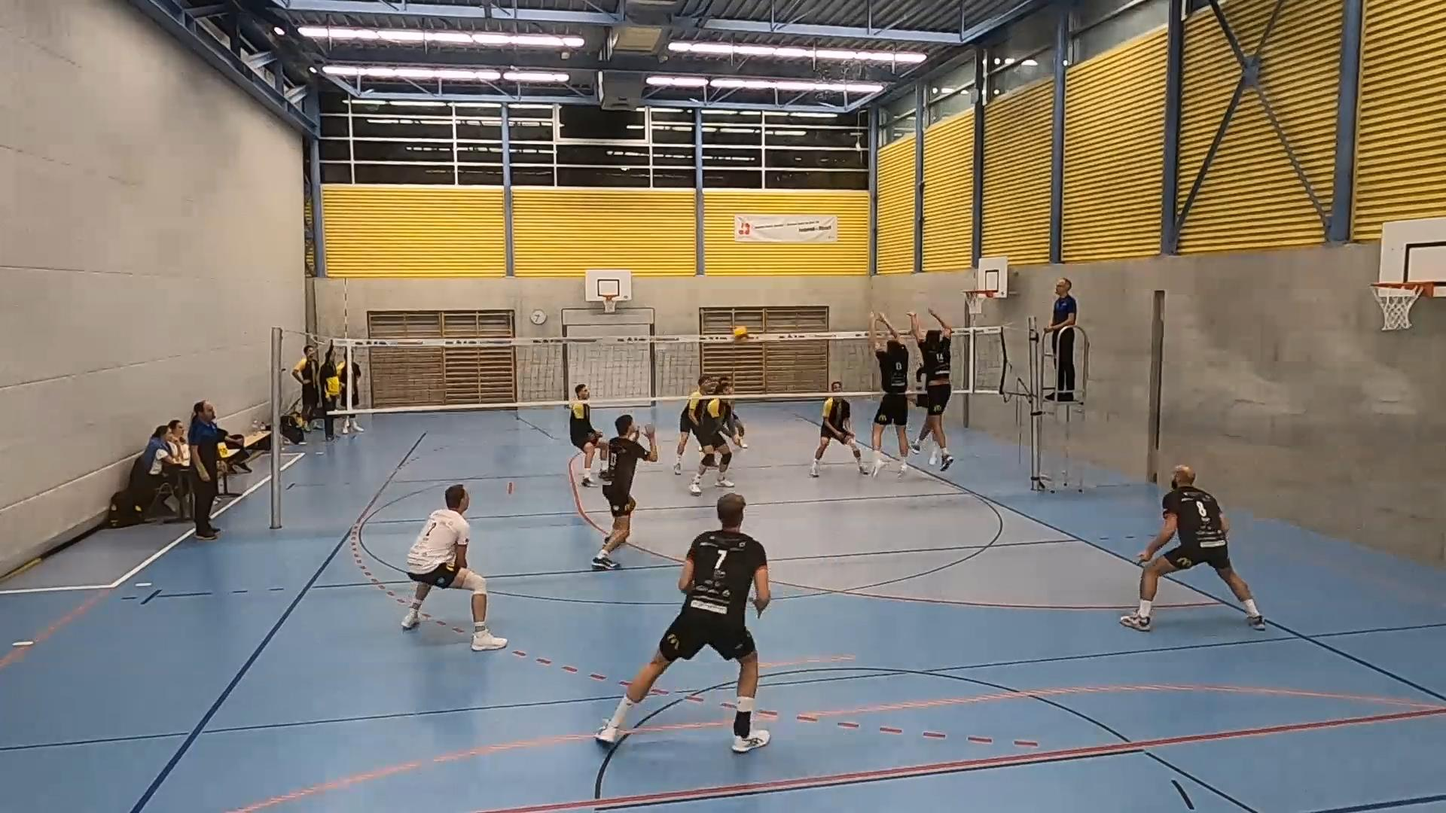Block: (860, 309, 915, 472), (906, 306, 959, 468)
Player: (596, 493, 770, 753), (1121, 465, 1264, 631), (401, 484, 506, 650), (592, 415, 657, 570), (810, 394, 868, 477), (689, 386, 733, 495), (673, 375, 713, 474), (569, 384, 602, 486), (718, 376, 745, 448), (724, 398, 747, 449)
ball: (735, 329, 759, 343)
